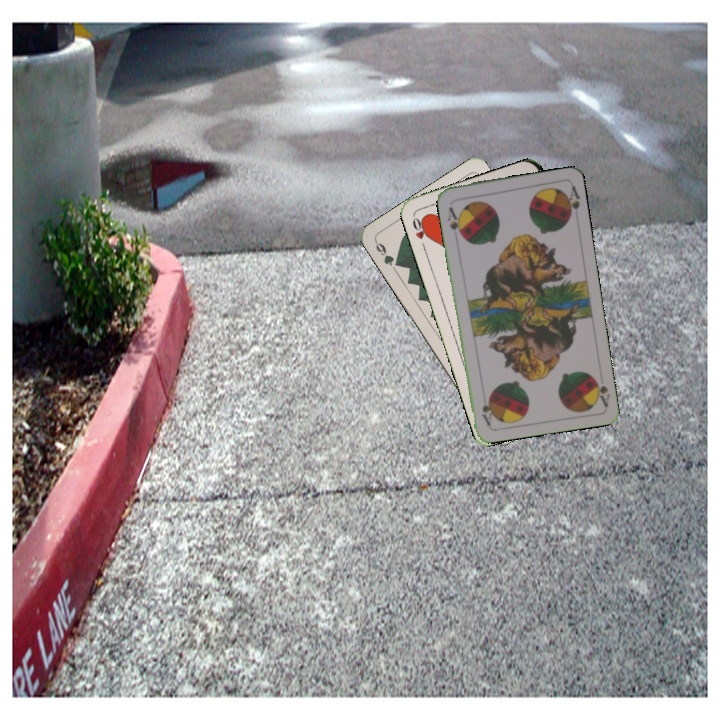G9: (371, 237, 403, 269)
HO: (408, 212, 432, 252)
SA: (589, 373, 612, 409), (443, 203, 465, 240)
